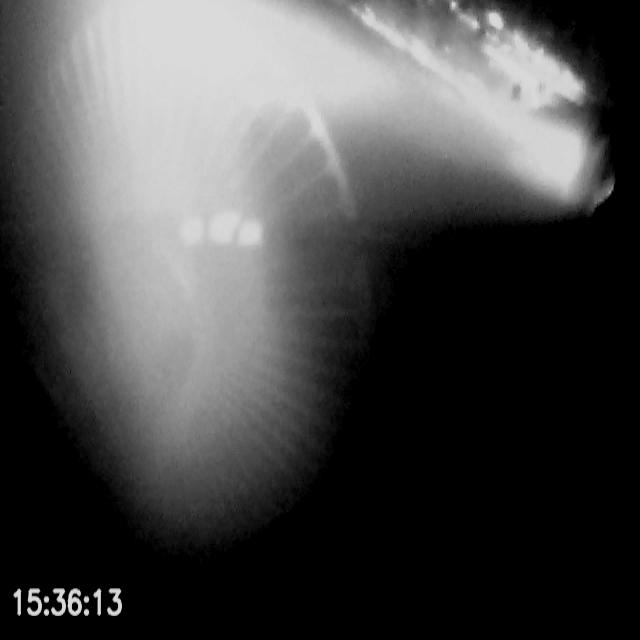white-dots: (178, 208, 264, 248)
